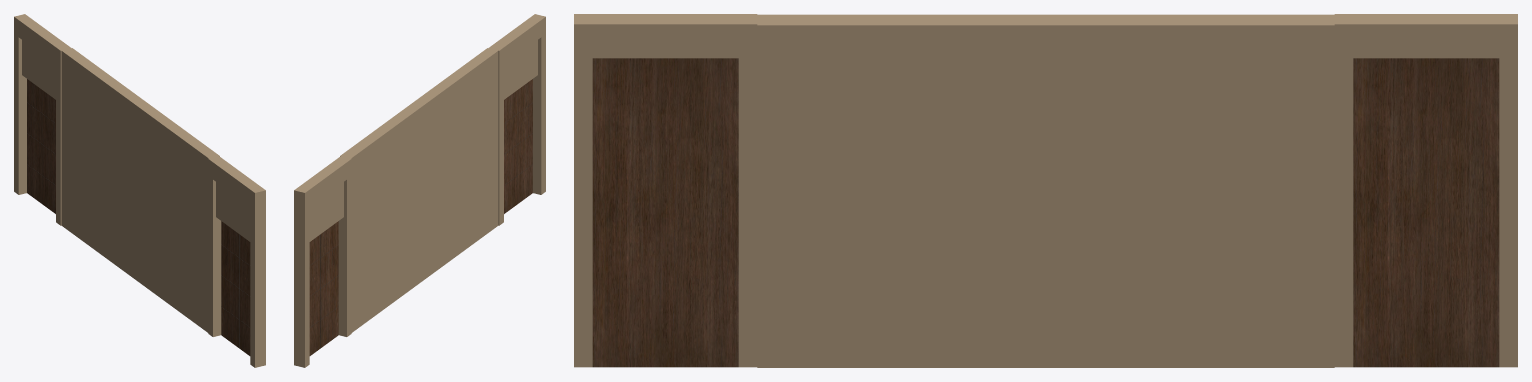
Rendered from wall2.FBX.
The picture shows the model from 3 angles, left to right: view 1: azimuth 30°, elevation 25°; view 2: azimuth 150°, elevation 25°; view 3: azimuth 270°, elevation 25°; orthographic projection. The views are drawn at different scales.
Visible parts, largest first — view 1: wall2; view 2: wall2; view 3: wall2.
Boxes of the visible parts, x1,y1,x2,y2 form: wall2: [14, 14, 265, 367]; wall2: [294, 14, 545, 367]; wall2: [574, 14, 1517, 367].
Size of the model in its own units: 214 by 7612 by 3050.
